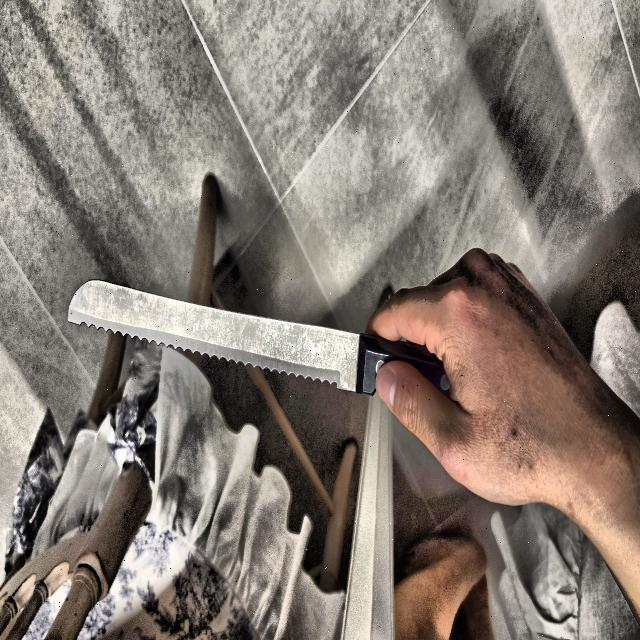knife: (65, 276, 451, 402)
